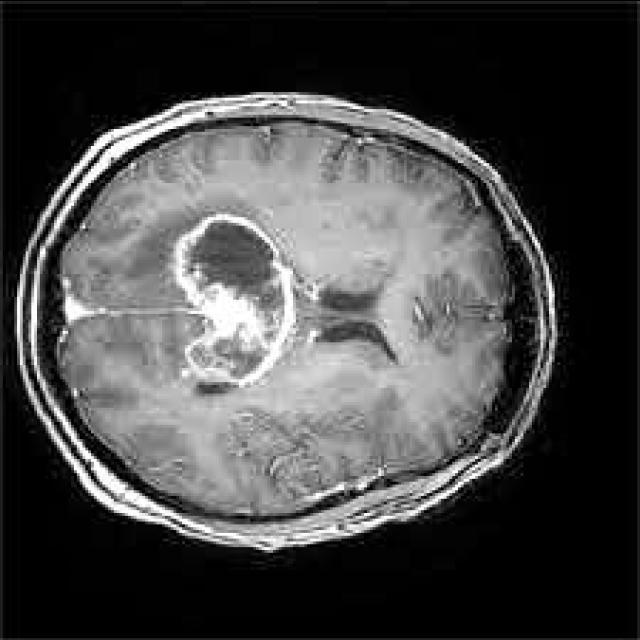tumor: (174, 210, 299, 390)
